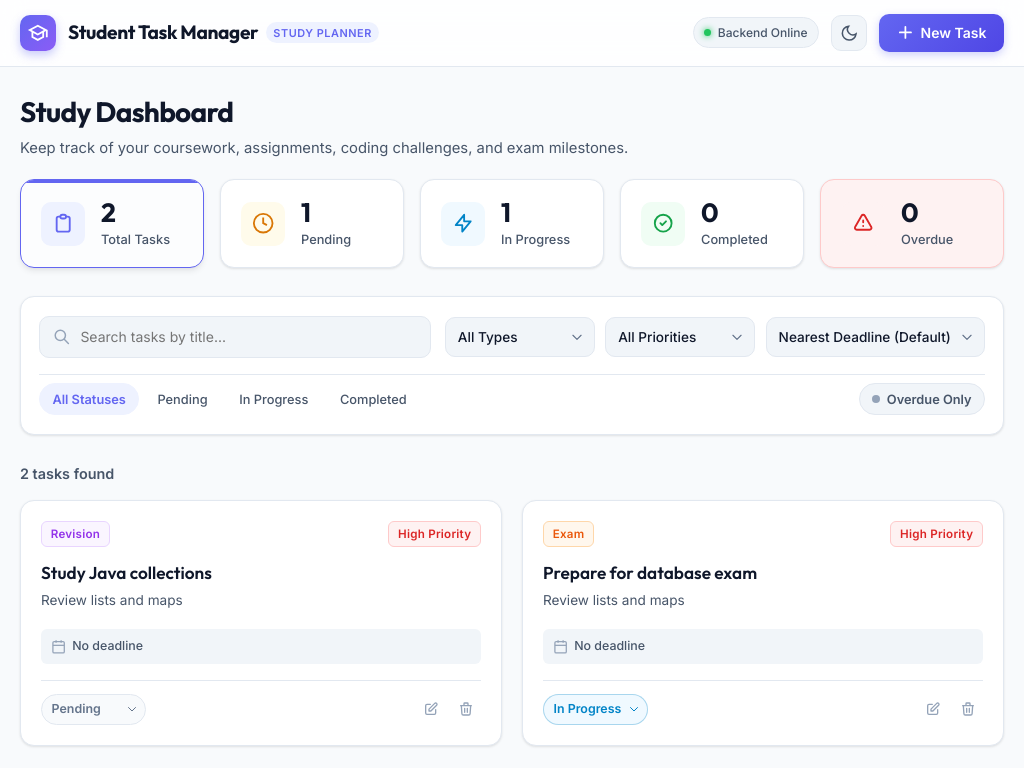
Test: App task list and dashboard › sends search and status selections back to the API service
Expected: the heading "Study Java collections" is shown, [41, 562, 212, 583]
Type "database" into the field with placeholder "Search tasks by title...".
click(235, 337); type("database")  # box [39, 316, 431, 358]
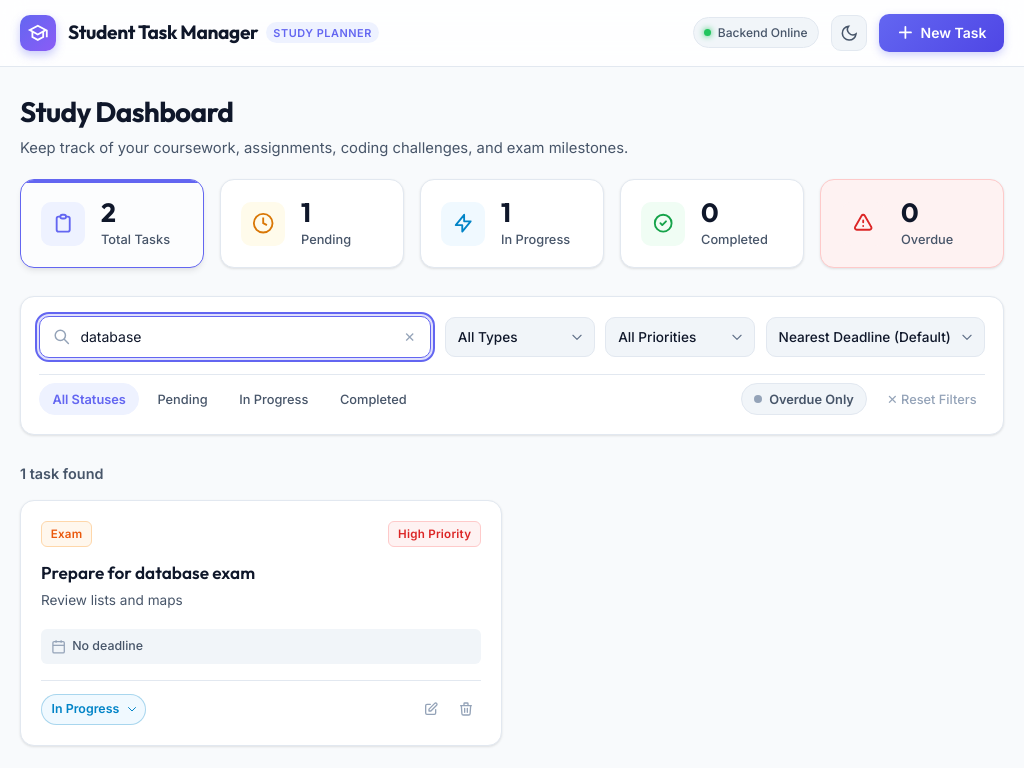
Expected: the heading "Prepare for database exam" is shown, [41, 562, 255, 583]
Expected: the heading "Study Java collections" is gone
Clear the field with placeholder "Search tasks by title..." at (235, 337), box [39, 316, 431, 358]
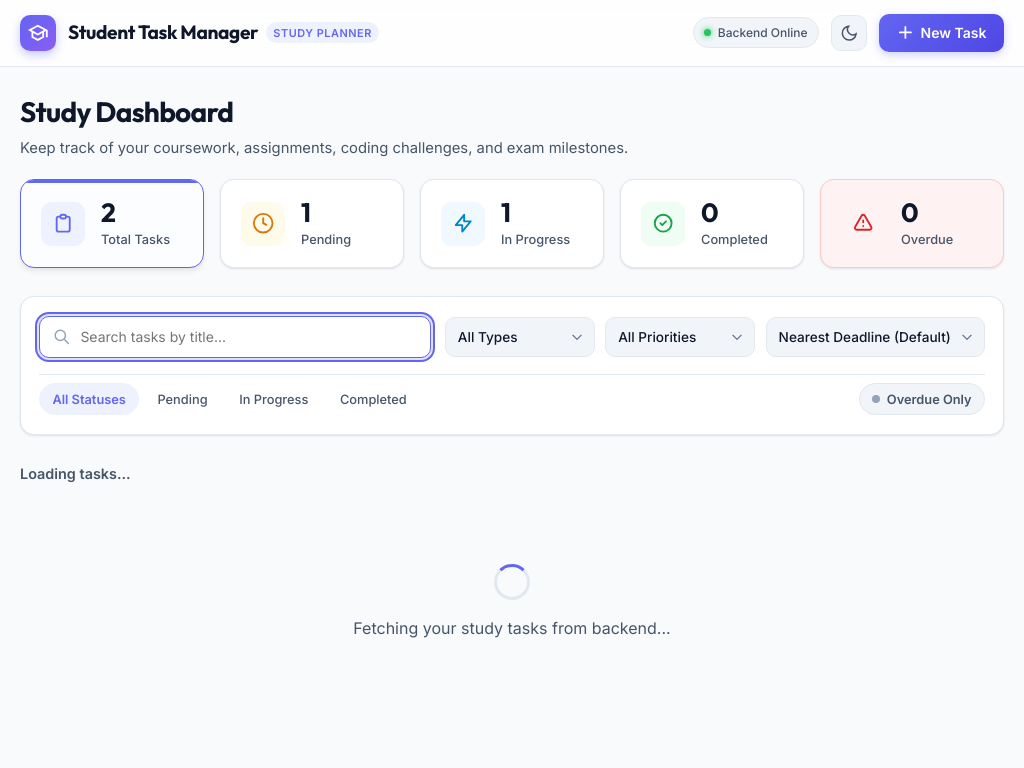
Click the tab "Pending".
click(183, 399)  # box [144, 383, 221, 415]
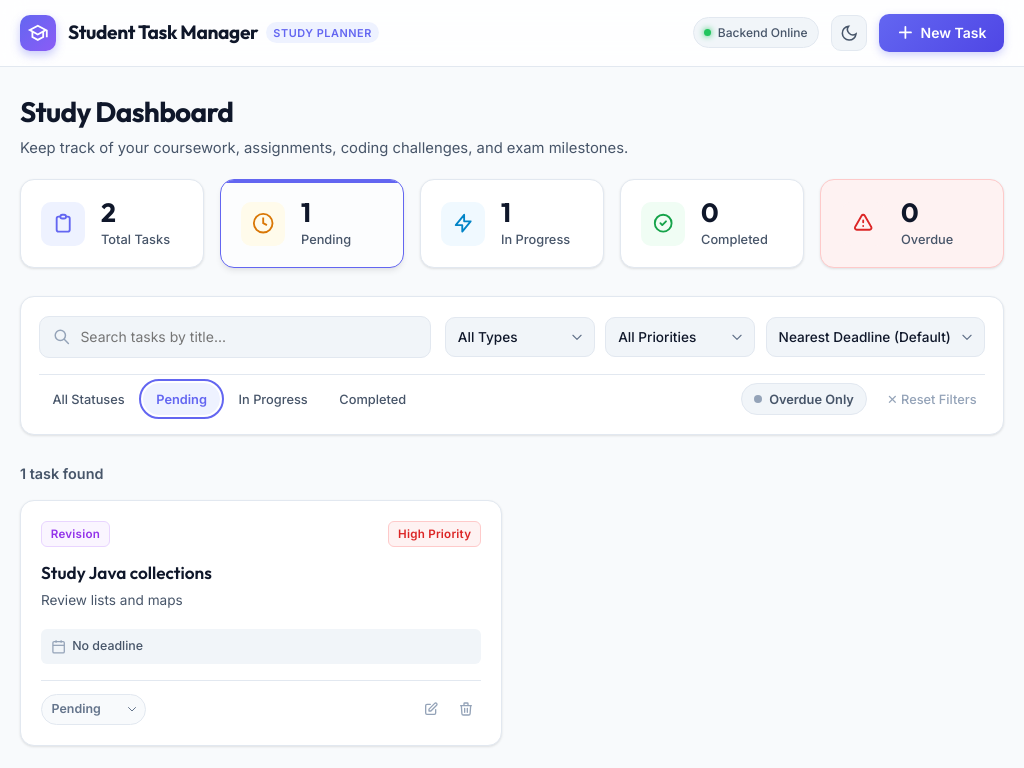
Expected: the heading "Study Java collections" is shown, [41, 562, 212, 583]
